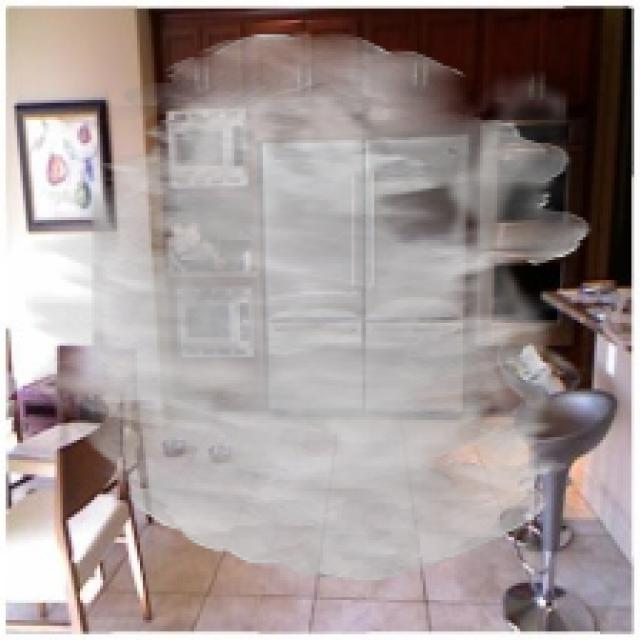smoke: (26, 31, 591, 580)
